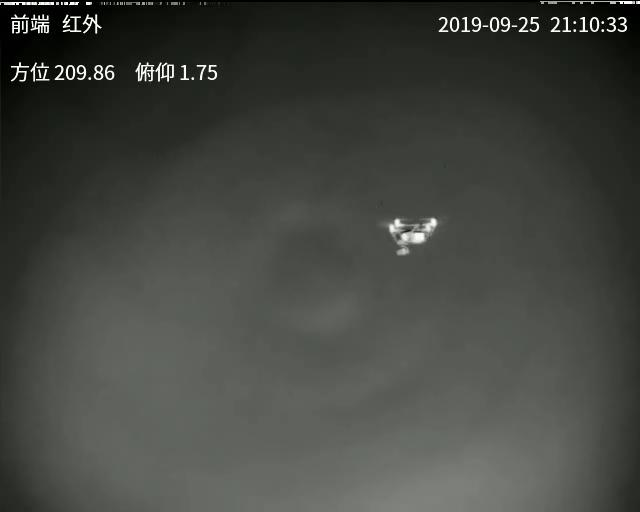uav: (383, 213, 436, 259)
